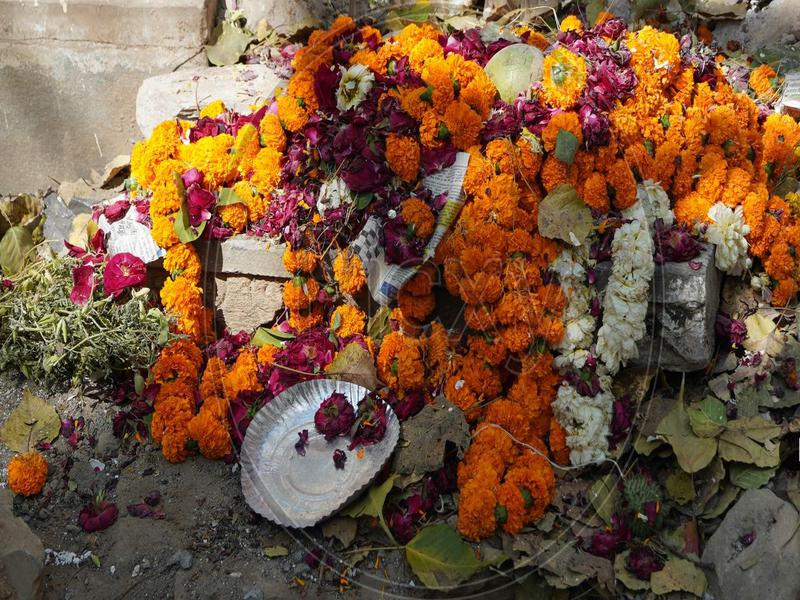flowers: (8, 9, 800, 536)
leaf: (385, 521, 499, 596), (511, 537, 617, 598), (718, 414, 786, 475), (4, 391, 66, 453), (648, 553, 713, 600), (680, 392, 732, 447), (1, 189, 49, 234)
